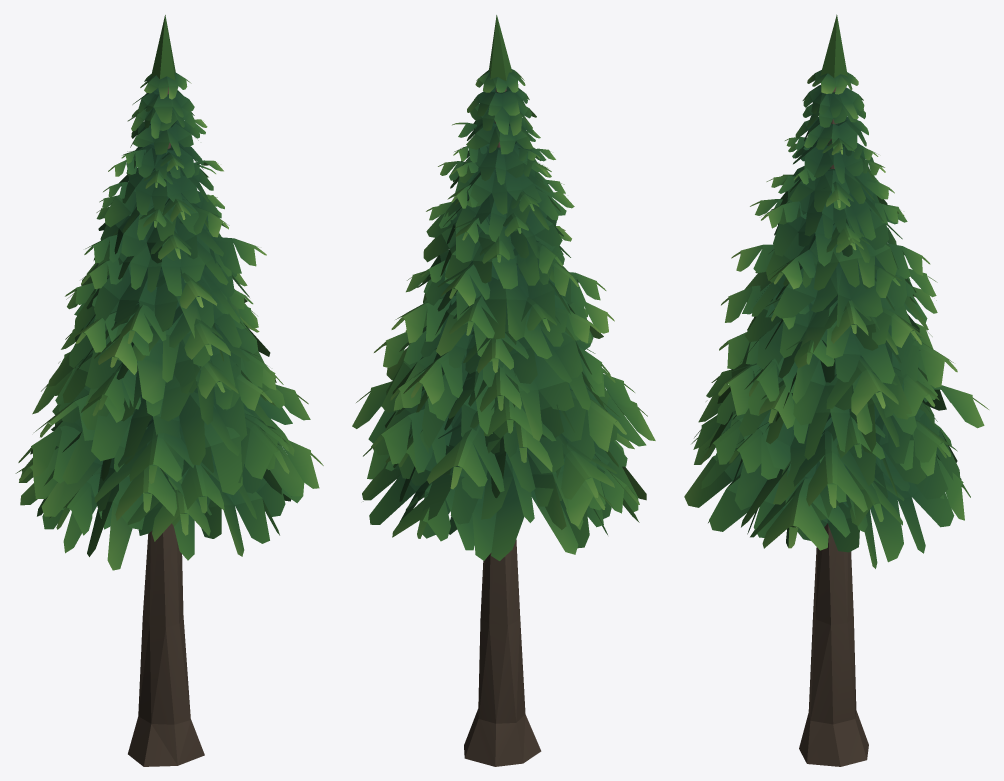
Rendered from spruce_L_normal_tall_s21.glb.
The picture shows the model from 3 angles, left to right: view 1: azimuth 30°, elevation 25°; view 2: azimuth 150°, elevation 25°; view 3: azimuth 270°, elevation 25°; orthographic projection.
Parts seen in each view (by area): view 1: Tree; view 2: Tree; view 3: Tree.
Boxes of the visible parts, x1=… form: Tree: x1=15, y1=15, x2=323, y2=766; Tree: x1=352, y1=15, x2=655, y2=766; Tree: x1=684, y1=14, x2=988, y2=766.
Size of what is drawn, in the model's own units: 4.41 by 11.4 by 4.28.
